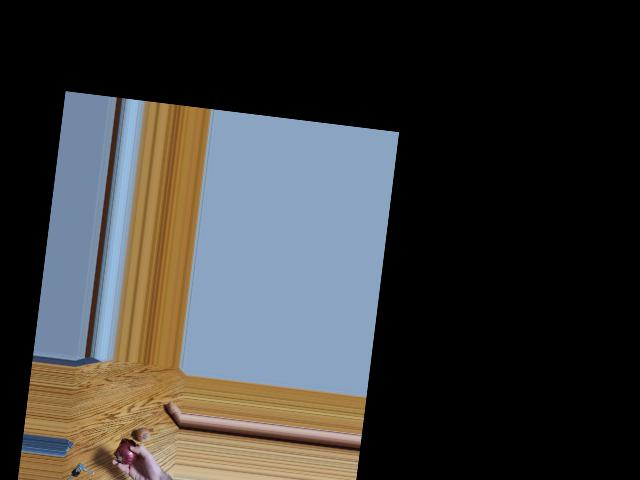onion: (114, 442, 136, 463)
